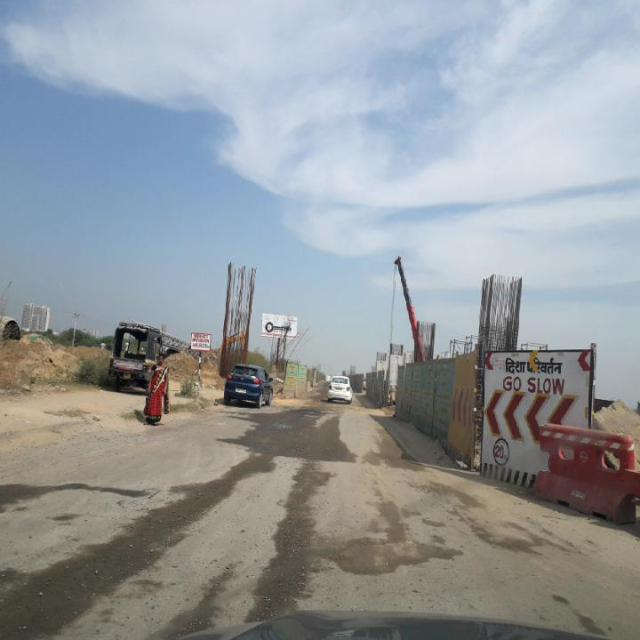Surface Erosion: (136, 386, 640, 640)
